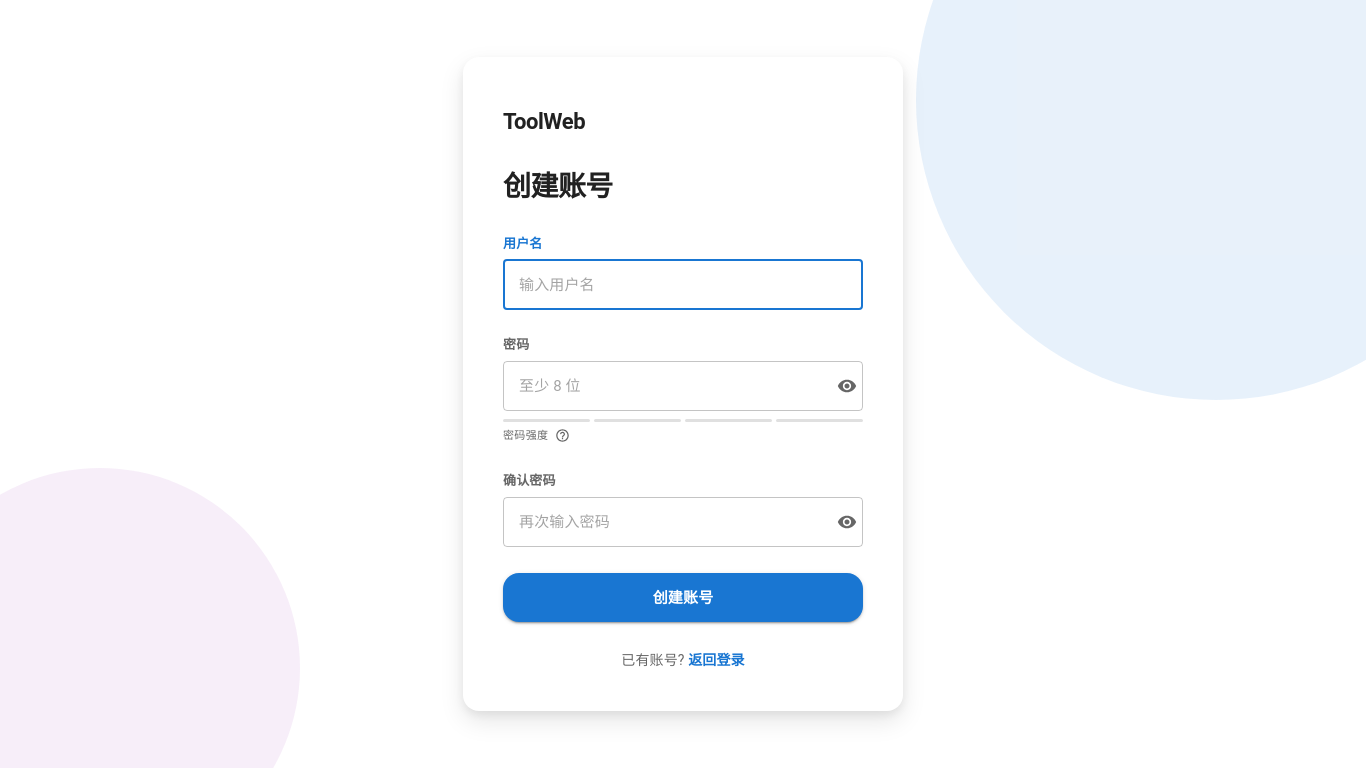
it: RegisterPage › shows username availability while typing
Type "rex" into the field with id "register-username" at (683, 285), box [503, 260, 863, 310]
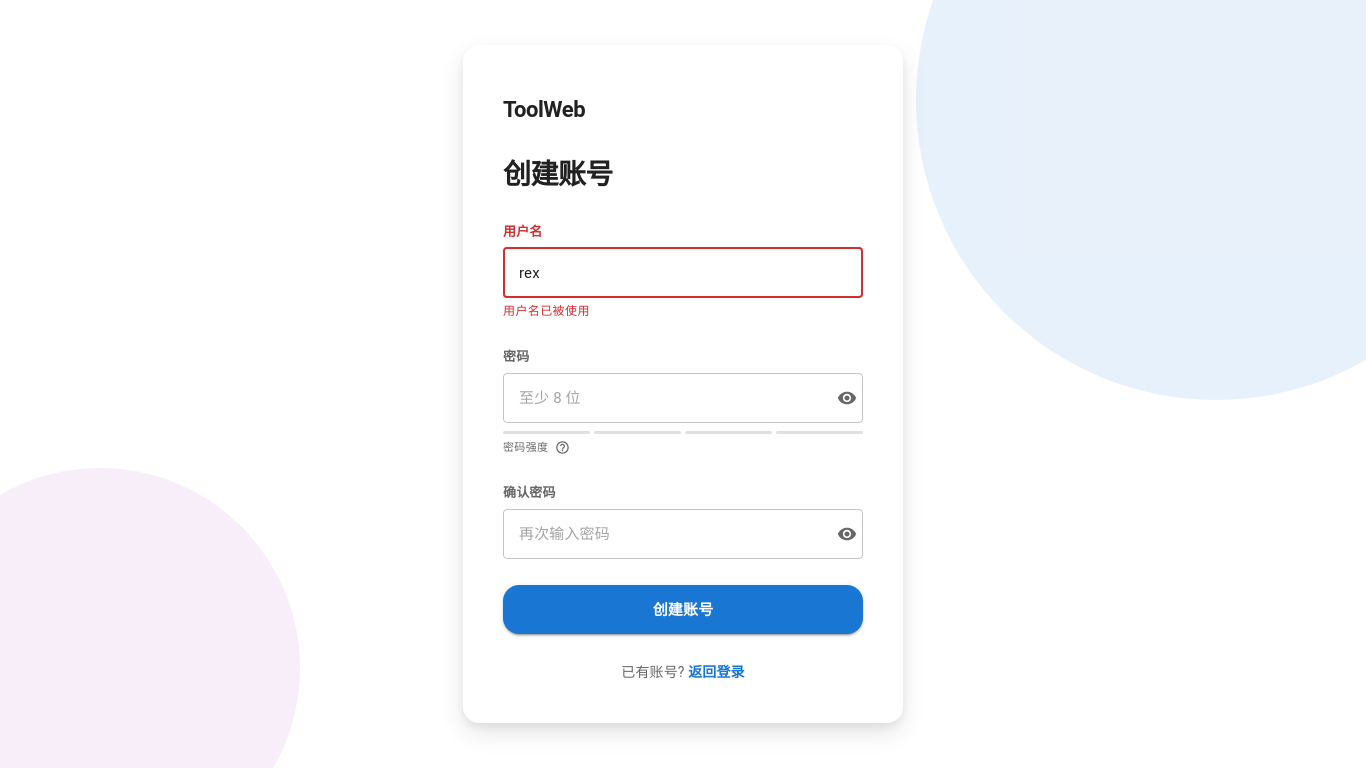
Expected: the text "用户名已被使用" is shown, [503, 304, 590, 318]
